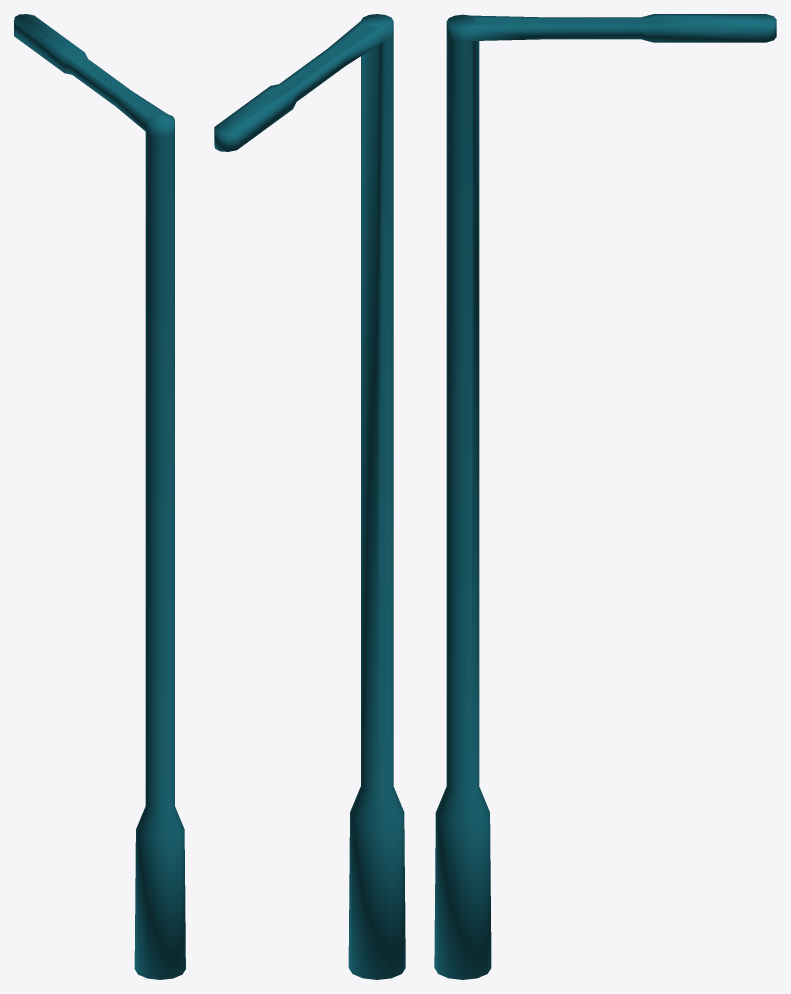
Rendered from streetlamp.fbx.
3 renders of one model, left to right at view 1: azimuth 30°, elevation 25°; view 2: azimuth 150°, elevation 25°; view 3: azimuth 270°, elevation 25°, orthographic. The views are drawn at different scales.
Visible parts, largest first — view 1: StreetLamp; view 2: StreetLamp; view 3: StreetLamp.
Part boxes in pixels (left/top/right/bottom): StreetLamp: left=14, top=14, right=185, bottom=979; StreetLamp: left=214, top=14, right=405, bottom=979; StreetLamp: left=434, top=14, right=776, bottom=979.
Size of the model in its own units: 5.13 by 94.07 by 30.76.
